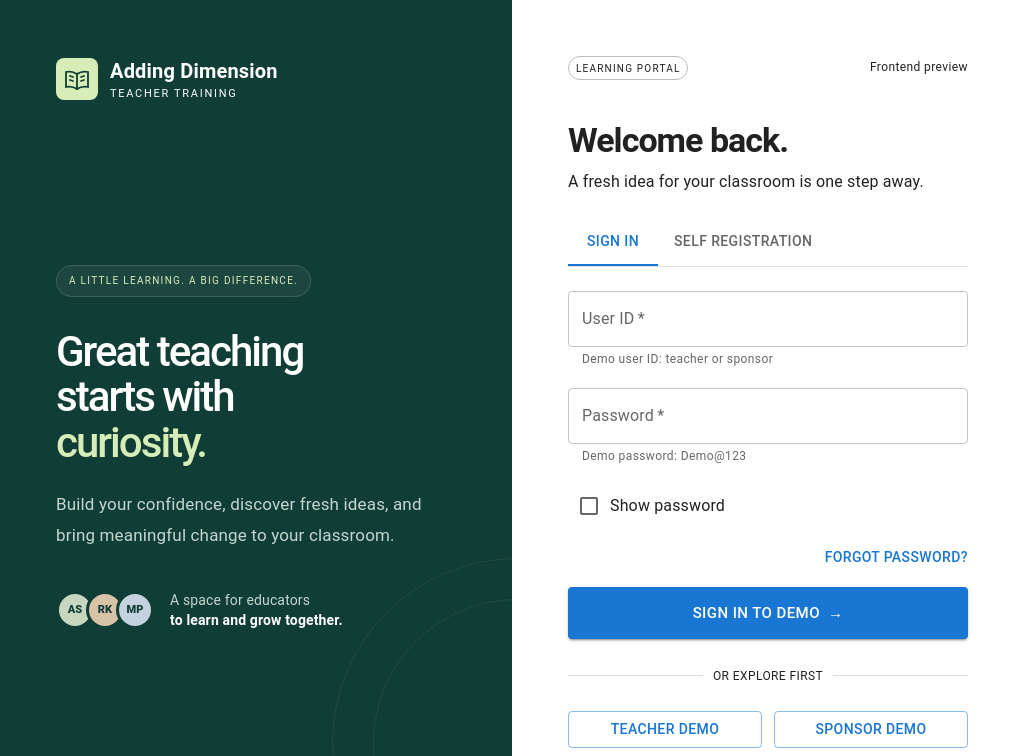
Scenario: account forms › rejects credentials other than the published demo credentials
In the field labelled "User ID *": (768, 319) [568,291,968,347], type "unrecognized"
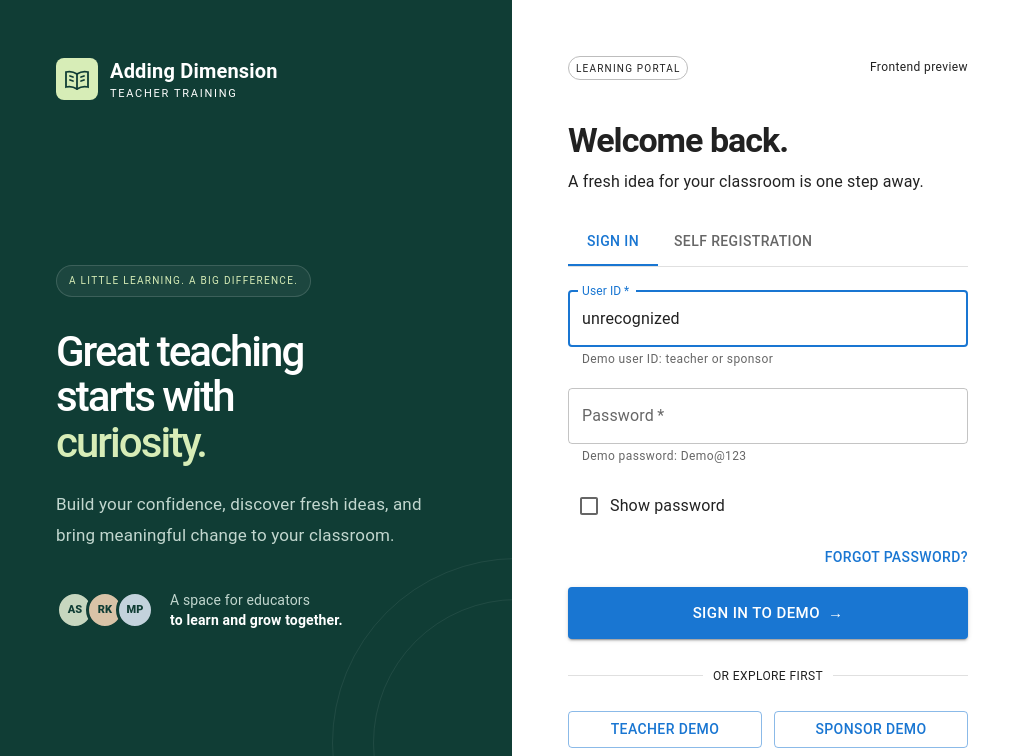
In the password field labelled "Password *": (768, 416) [568,388,968,444], type "Wrong@123"
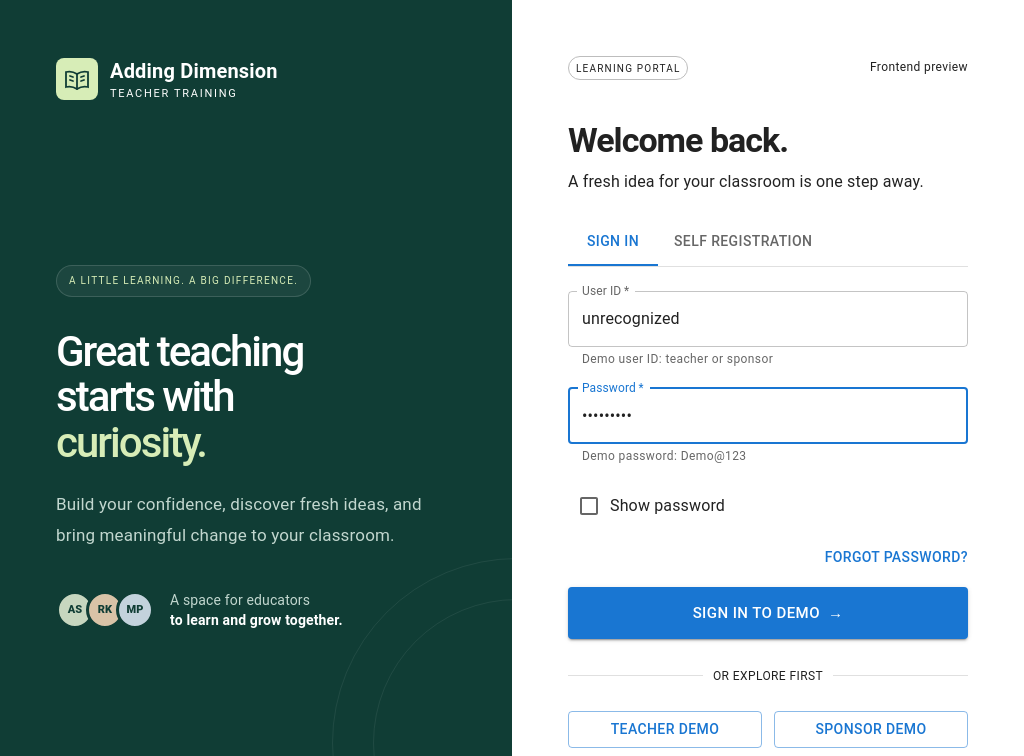
Click the button "Sign in to demo →": click(768, 613) [568,587,968,639]
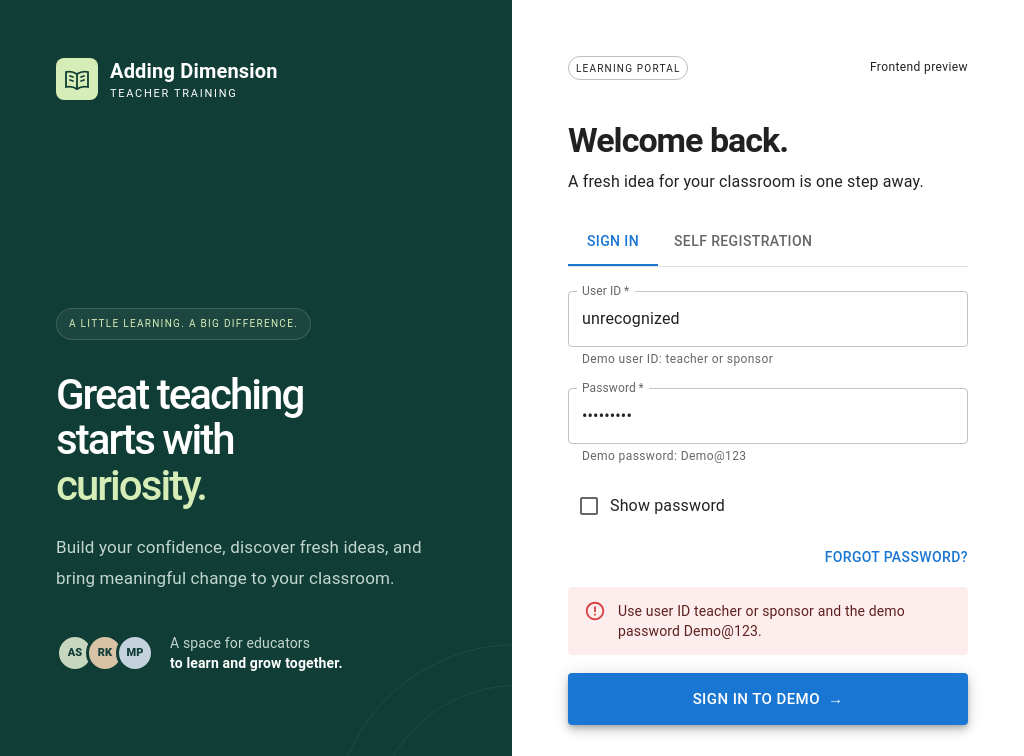
Expected: the message shows "Use user ID teacher or sponsor", [618,603,905,639]
